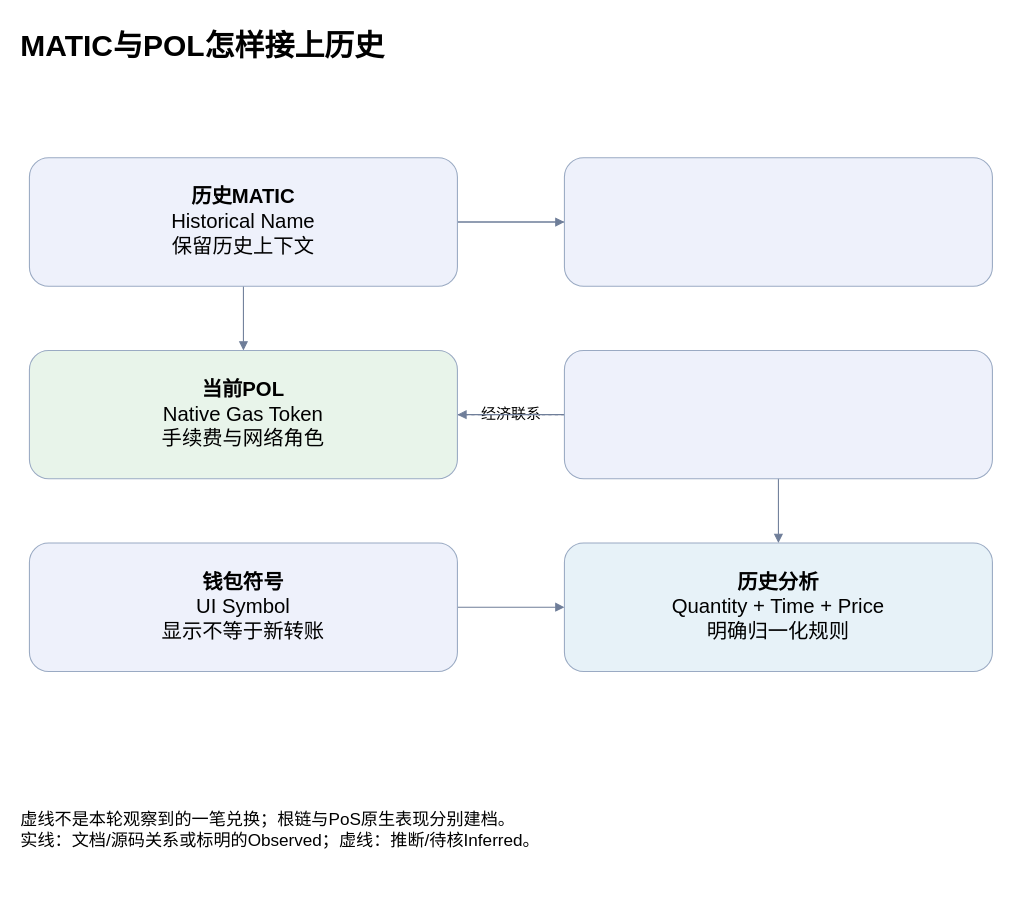
Some shapes in this 1021 by 908 pixel diagram are drawn without their labels. The centre of each missing label's shape, as x and y in pixels:
2024-09-04 PoS Native Upgrade PoS原生余额自动升级: (777,221)
Ethereum ERC-20 Separate Token Contracts 迁移是具体合约流程: (777,414)
